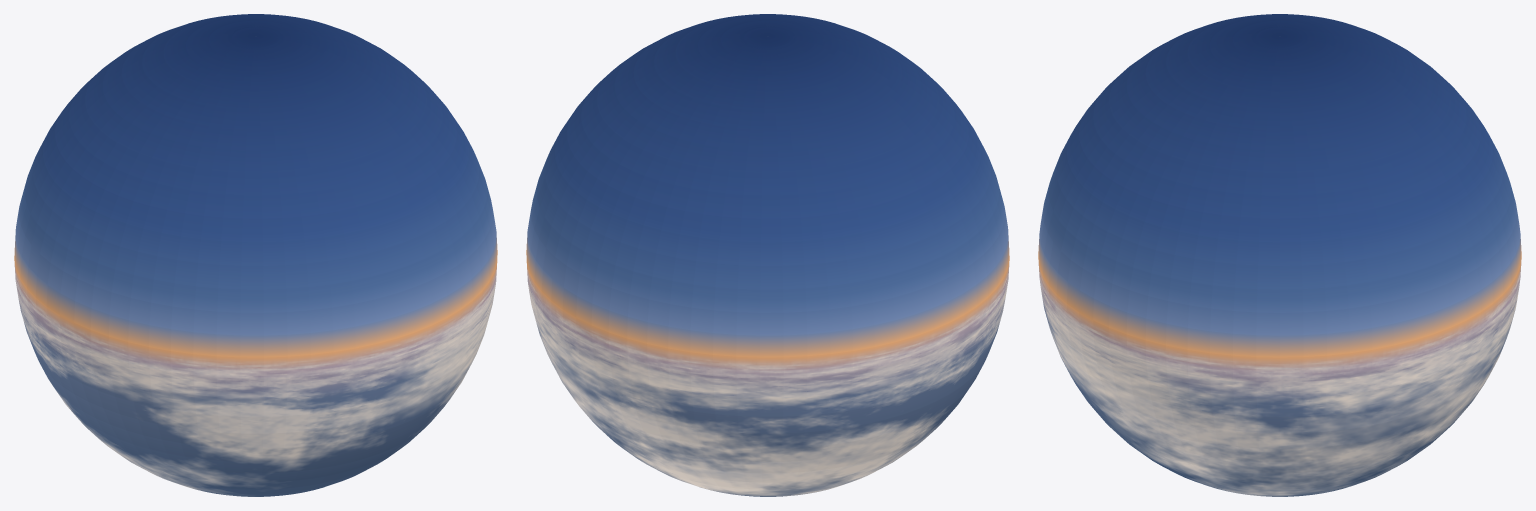
Rendered from aviao_intercambio.glb.
3 renders of one model, left to right at view 1: azimuth 30°, elevation 25°; view 2: azimuth 150°, elevation 25°; view 3: azimuth 270°, elevation 25°, orthographic.
Parts seen in each view (by area): view 1: airplane_exterior_sky_dome; view 2: airplane_exterior_sky_dome; view 3: airplane_exterior_sky_dome.
Boxes of the visible parts, box(x1,y1,x2,y2) form: airplane_exterior_sky_dome: box(14, 14, 497, 496); airplane_exterior_sky_dome: box(526, 14, 1009, 496); airplane_exterior_sky_dome: box(1038, 14, 1521, 496).
Size of the model in its own units: 7000 by 7000 by 7000.
40 materials, 24 textured.
